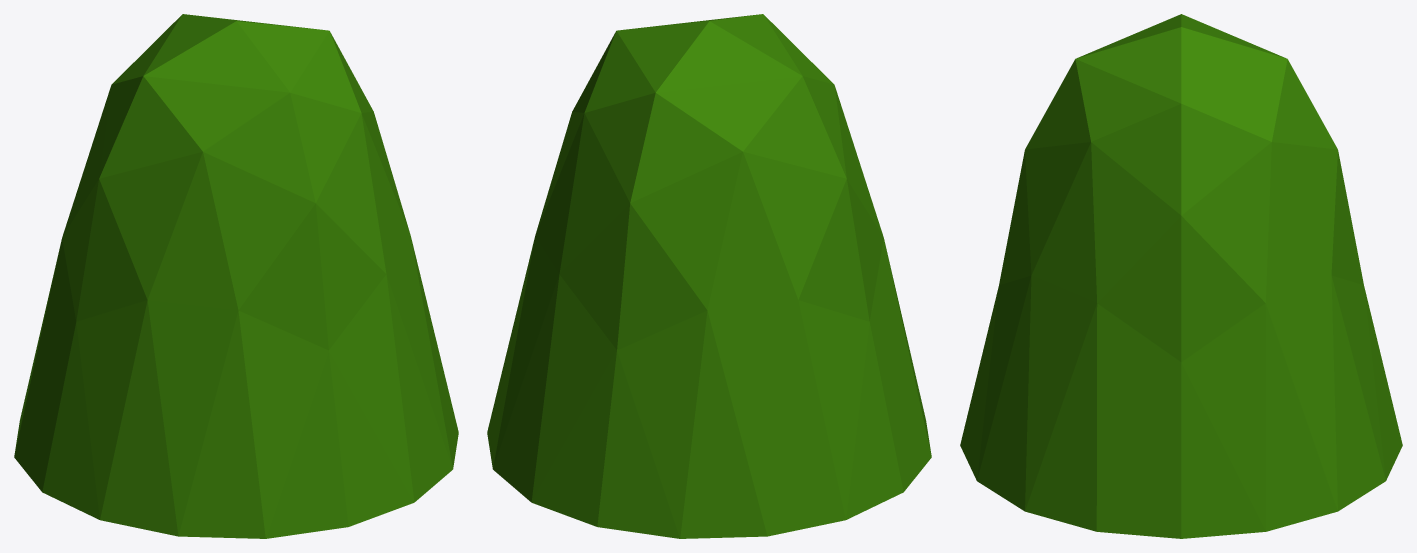
Rendered from Bush_f_01.fbx.
The picture shows the model from 3 angles, left to right: view 1: azimuth 30°, elevation 25°; view 2: azimuth 150°, elevation 25°; view 3: azimuth 270°, elevation 25°; orthographic projection.
Parts seen in each view (by area): view 1: Bush_f_01_LOD0; view 2: Bush_f_01_LOD0; view 3: Bush_f_01_LOD0.
Boxes of the visible parts, x1,y1,x2,y2 form: Bush_f_01_LOD0: (14, 14, 458, 538); Bush_f_01_LOD0: (487, 14, 931, 538); Bush_f_01_LOD0: (960, 14, 1402, 538).
Size of what is drawn, in the model's own units: 17.89 by 18.97 by 17.89.
